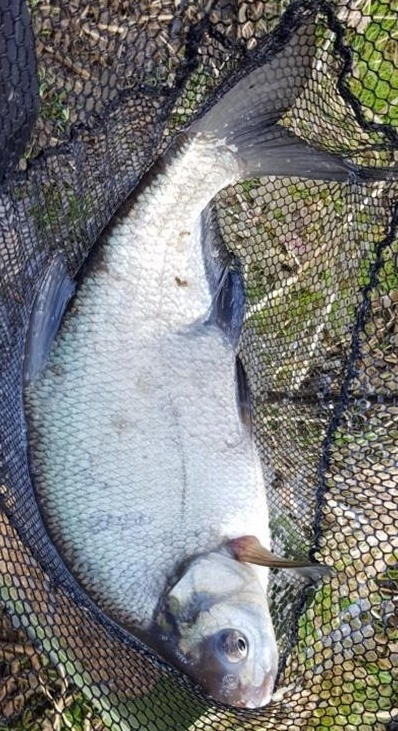Abramis brama: (20, 20, 378, 711)
